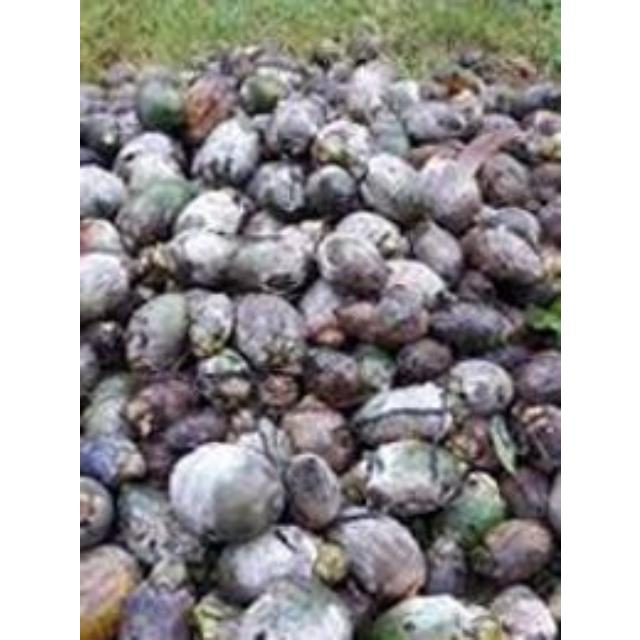damaged: (331, 512, 425, 604), (180, 443, 276, 533), (214, 524, 318, 606), (356, 439, 460, 516), (235, 580, 351, 640), (351, 381, 452, 445), (118, 484, 194, 566), (364, 592, 486, 640), (231, 293, 303, 372), (114, 180, 194, 248), (124, 290, 190, 372), (80, 543, 136, 639), (466, 222, 542, 290), (434, 474, 504, 546), (413, 156, 481, 230), (474, 518, 550, 584), (280, 403, 352, 472), (227, 235, 309, 295), (357, 154, 428, 222), (428, 300, 516, 354), (282, 453, 342, 531), (193, 116, 261, 184), (316, 230, 388, 294), (118, 580, 192, 638), (165, 227, 237, 286), (446, 358, 512, 417), (302, 348, 366, 408), (485, 585, 553, 639), (79, 252, 129, 322), (510, 404, 560, 474), (247, 160, 307, 218), (128, 378, 192, 432), (182, 76, 234, 142), (173, 188, 244, 236), (264, 96, 322, 154), (182, 290, 234, 354), (338, 62, 396, 118), (400, 100, 472, 144), (370, 288, 428, 342), (310, 119, 372, 169), (381, 259, 444, 307), (134, 72, 184, 132), (475, 152, 529, 206), (118, 150, 186, 192), (334, 210, 401, 252), (302, 164, 356, 216), (298, 280, 344, 340), (80, 472, 116, 546), (163, 412, 225, 454), (497, 469, 547, 521), (190, 590, 242, 640), (395, 337, 451, 383), (196, 350, 252, 396), (512, 353, 560, 405), (480, 206, 540, 246), (79, 163, 123, 217), (83, 394, 131, 442), (504, 83, 560, 121), (79, 438, 125, 484), (80, 112, 122, 158), (83, 319, 125, 365), (335, 299, 383, 339), (240, 72, 286, 112), (86, 372, 130, 412), (80, 217, 122, 257), (526, 109, 560, 147), (133, 64, 175, 90)
